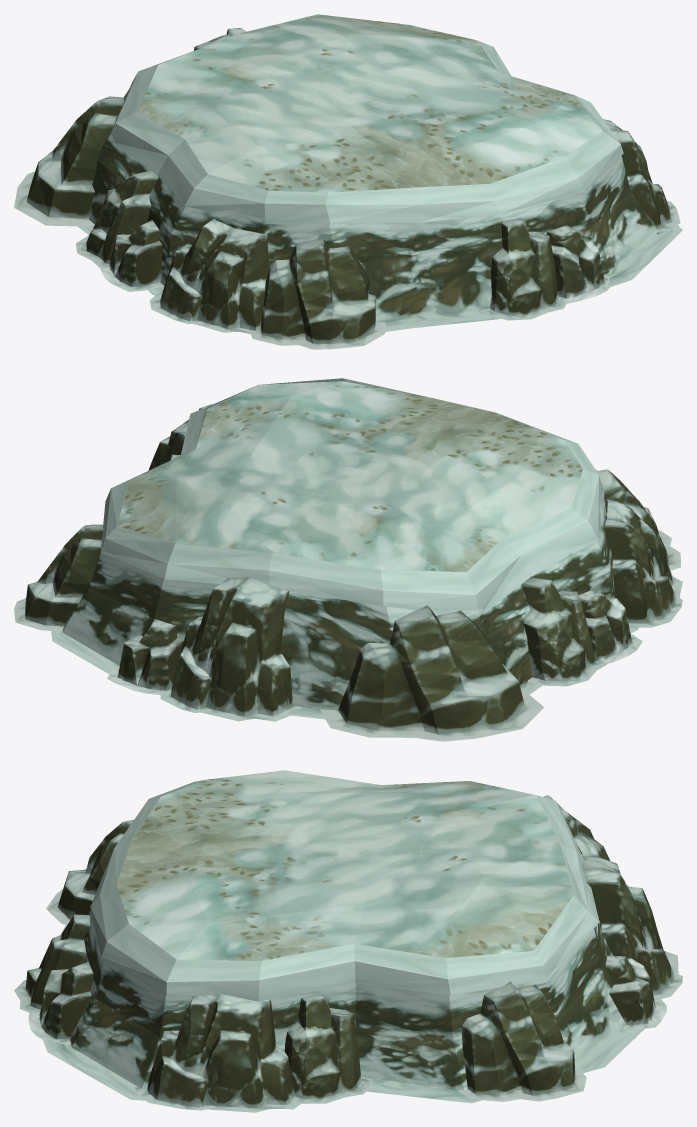
File: berm_mesa_2.fbx
3 renders of one model, top to bottom at view 1: azimuth 30°, elevation 25°; view 2: azimuth 150°, elevation 25°; view 3: azimuth 270°, elevation 25°, orthographic. The views are drawn at different scales.
Parts seen in each view (by area): view 1: obj3.002; view 2: obj3.002; view 3: obj3.002.
Boxes of the visible parts, x1,y1,x2,y2 form: obj3.002: [14, 14, 682, 349]; obj3.002: [14, 378, 682, 741]; obj3.002: [14, 770, 682, 1112].
Size of the model in its own units: 15.07 by 3.42 by 15.71.
